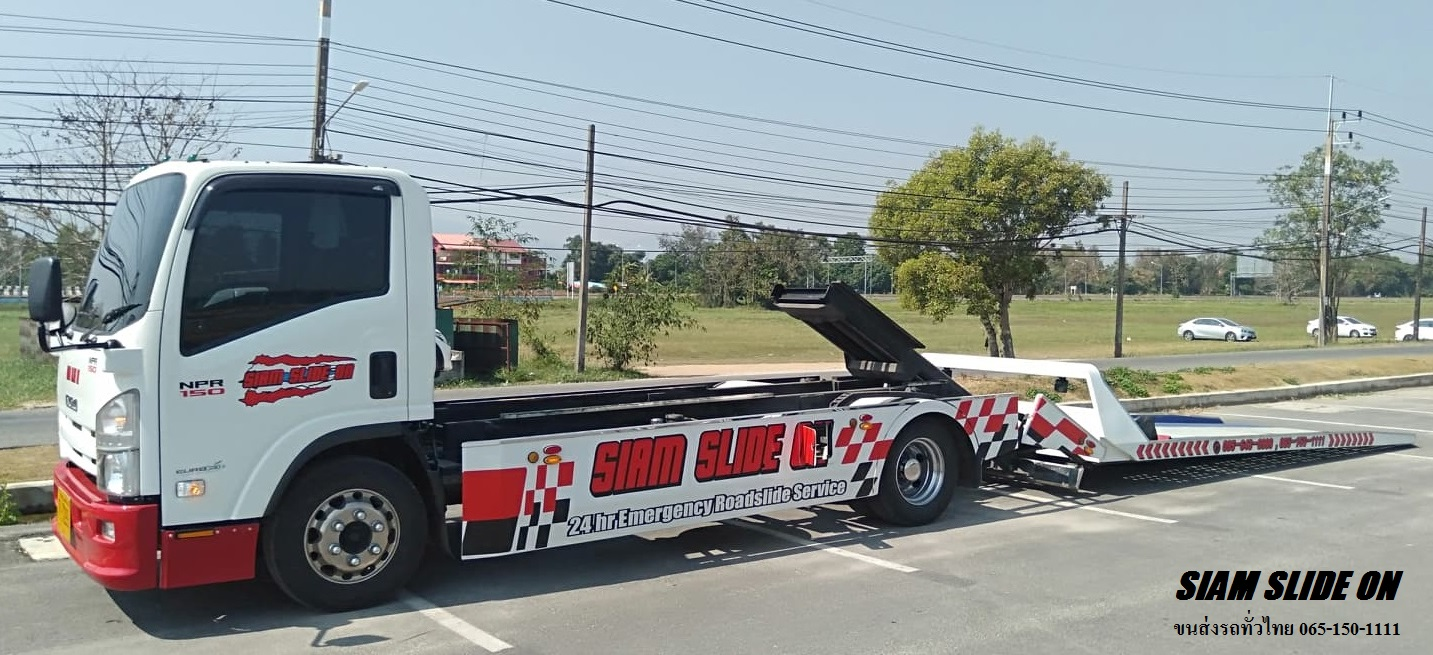truck: (44, 157, 1024, 614)
